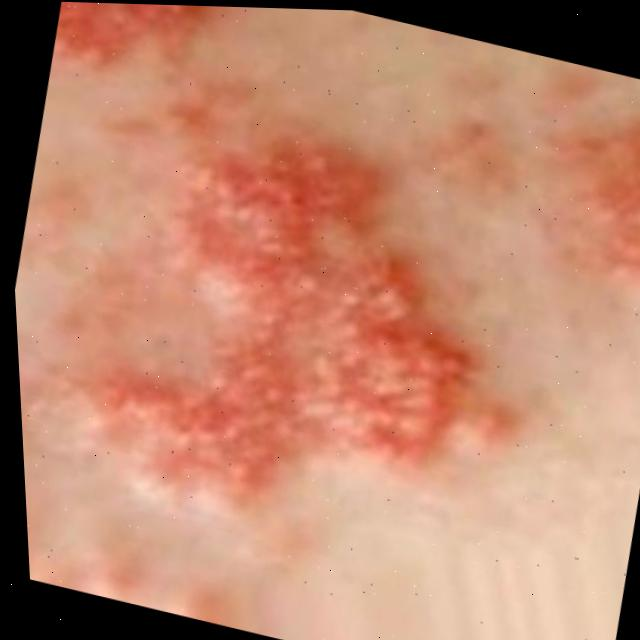Shingles: (98, 124, 512, 553), (51, 2, 220, 83), (563, 108, 640, 284)
